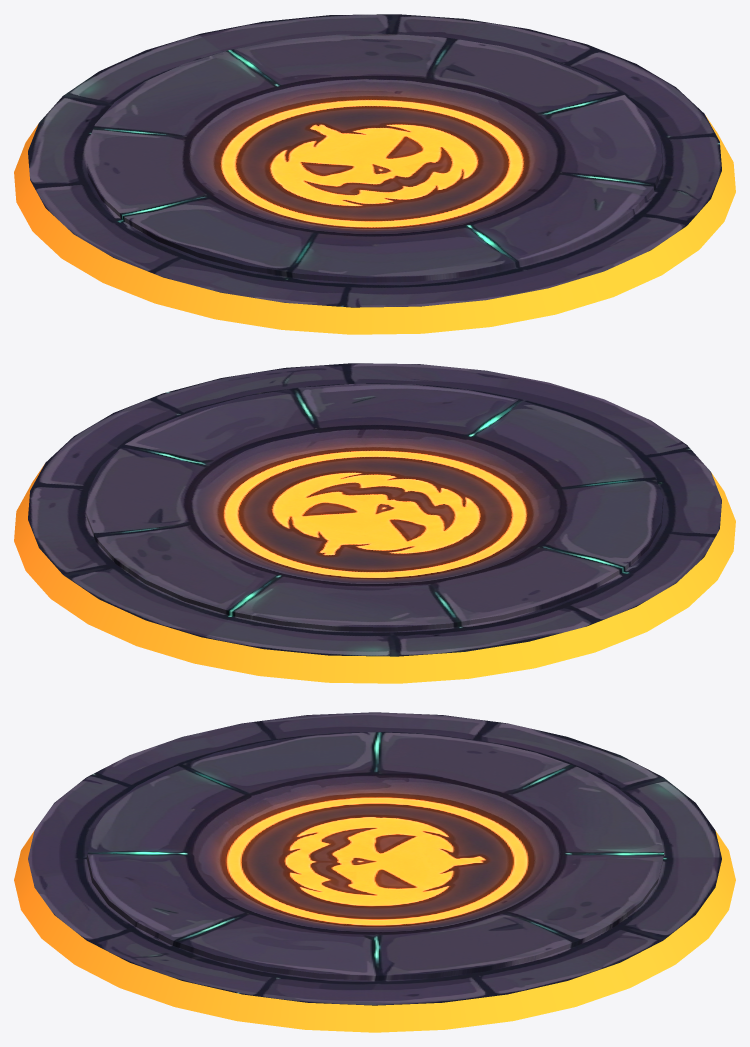
Rendered from StartGame.glb.
3 views of the same model, one above another, from view 1: azimuth 30°, elevation 25°; view 2: azimuth 150°, elevation 25°; view 3: azimuth 270°, elevation 25° (orthographic).
Visible parts, largest first — view 1: StartGame; view 2: StartGame; view 3: StartGame.
Part boxes in pixels (<box>): StartGame: <box>14,14,735,334</box>; StartGame: <box>14,363,735,683</box>; StartGame: <box>14,712,735,1032</box>.
Size of what is drawn, in the model's own units: 8.21 by 0.3263 by 8.21.
Materials: 1 (1 with a texture image).
